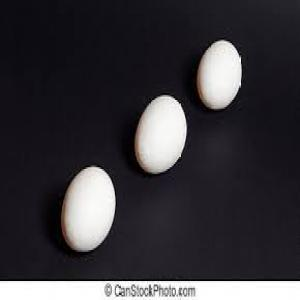Egg: (60, 166, 116, 253), (134, 94, 188, 176), (196, 38, 242, 112)
